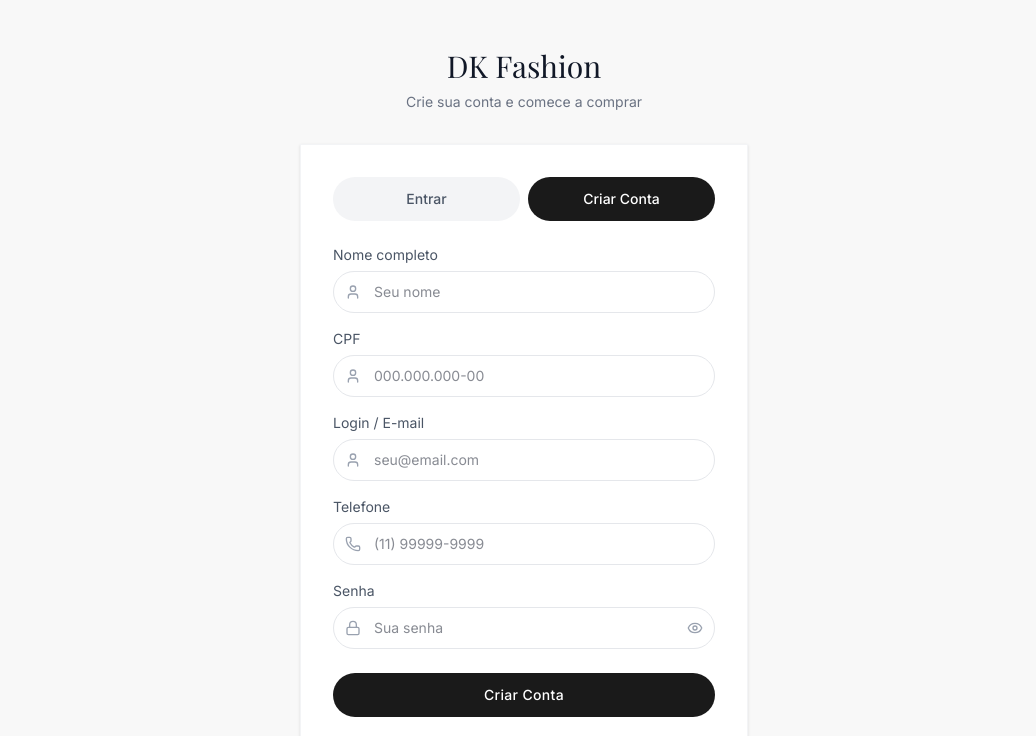
it: LoginPage › rejeita CPF com dígito verificador errado e telefone inválido
The width and height of the screenshot is (1036, 736).
Type "Ana" into the field with placeholder "Seu nome".
click(524, 292); type("Ana")  # box [333,271,715,313]
Type "12345678900" into the field with placeholder "000.000.000-00".
click(524, 376); type("12345678900")  # box [333,355,715,397]
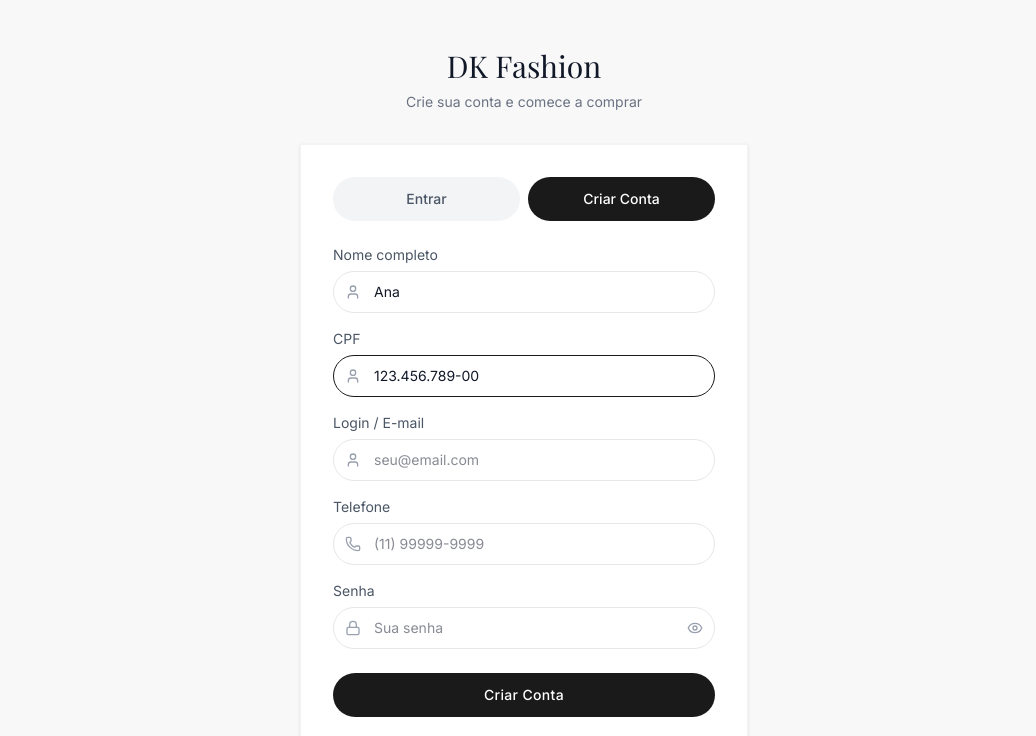
Type "ana@dk.com" into the field with placeholder "seu@email.com".
click(524, 460); type("ana@dk.com")  # box [333,439,715,481]
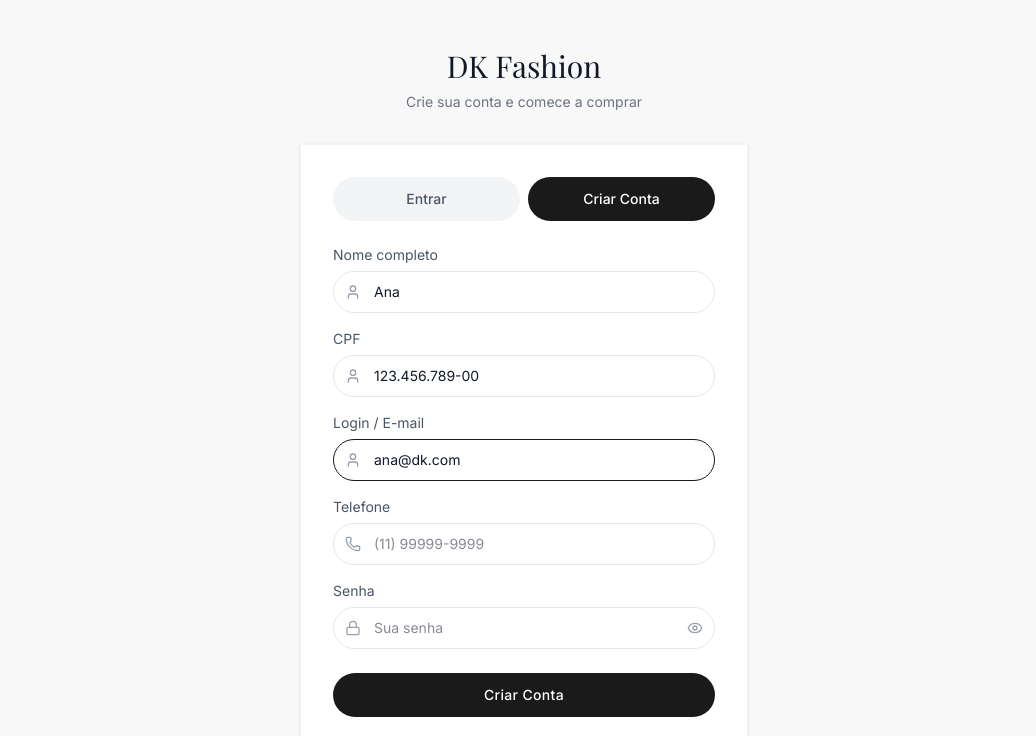
Type "senha1234" into the password field with placeholder "Sua senha".
click(524, 628); type("senha1234")  # box [333,607,715,649]
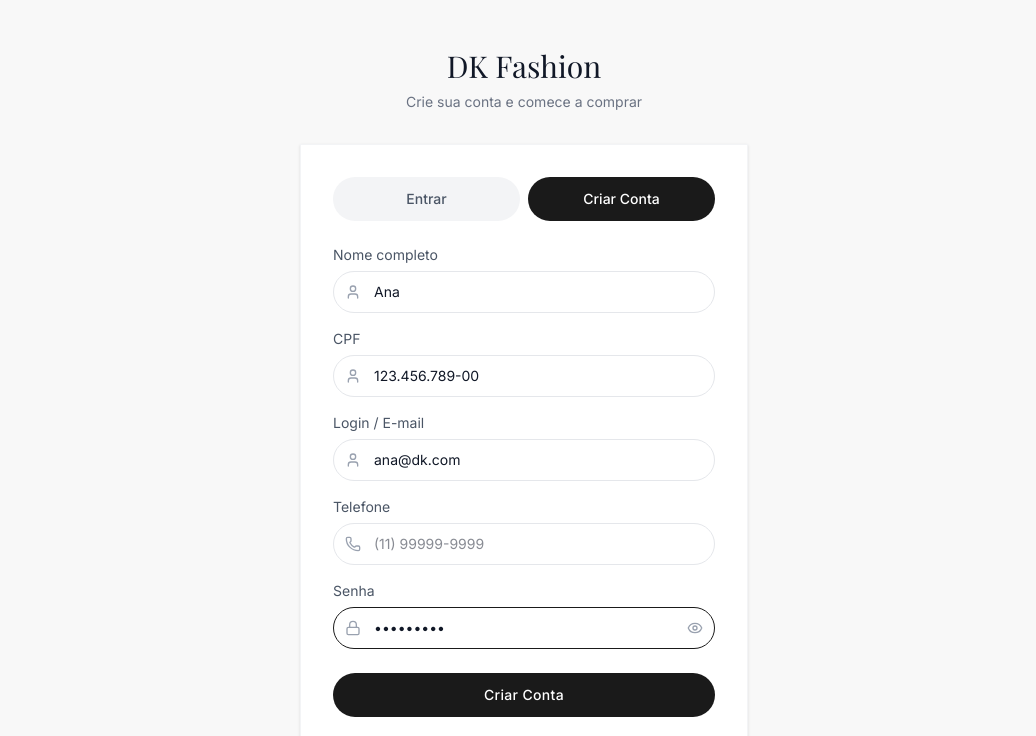
Click the button "Criar Conta" below "Senha".
click(524, 695)  # box [333,673,715,717]
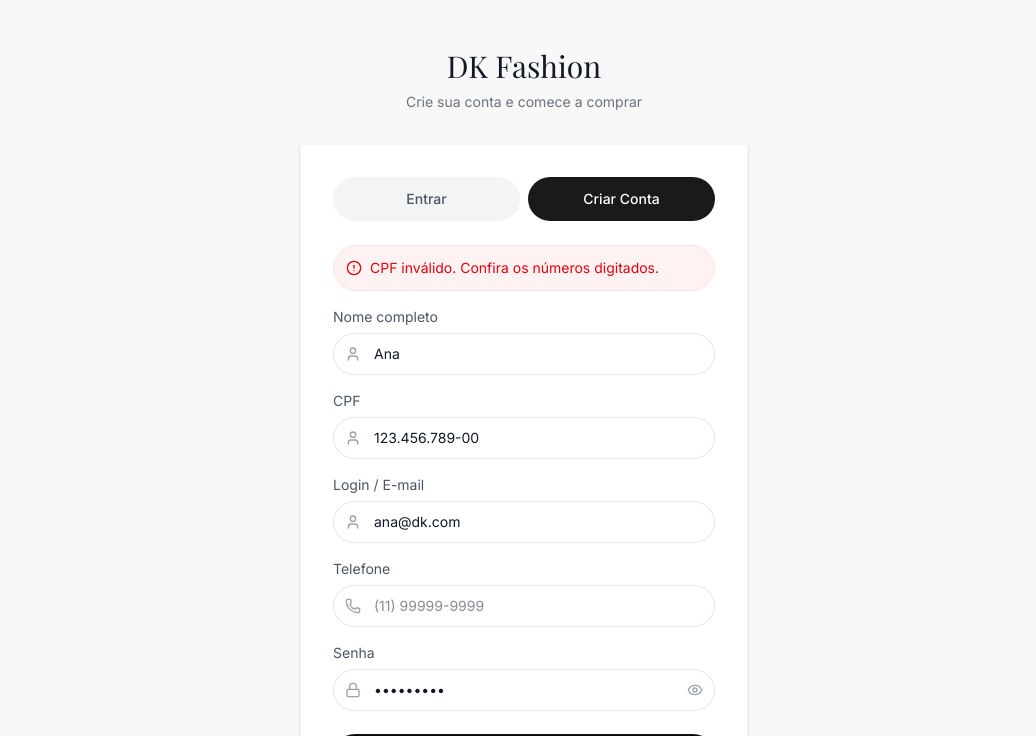
expect the text "CPF inválido. Confira os números digitados." is shown: met, box [333,245,715,291]
Replace the text in the 2nd field with "52998224725" at [524, 438], box [333,417,715,459]
Type "6100000000" into the field with placeholder "(11) 99999-9999".
click(524, 606); type("6100000000")  # box [333,585,715,627]
(page scrolled)
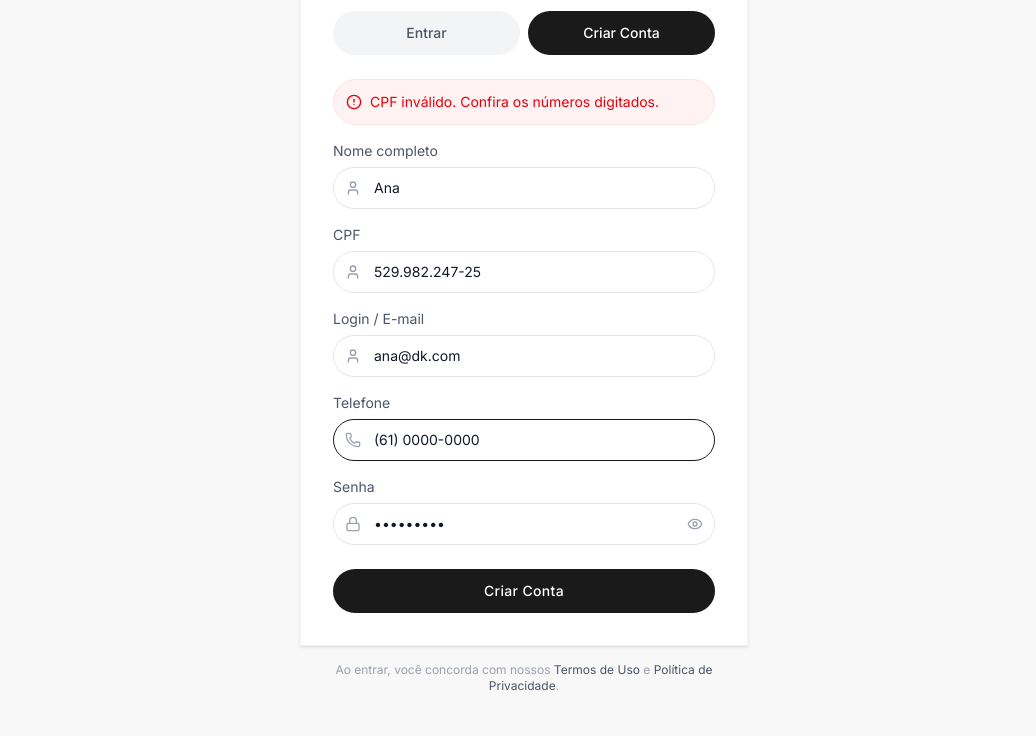
expect the field with placeholder "(11) 99999-9999" below "Telefone" holds "(61) 0000-0000": met, box [333,419,715,461]
Click the button "Criar Conta" below "Senha".
click(524, 591)  # box [333,569,715,613]
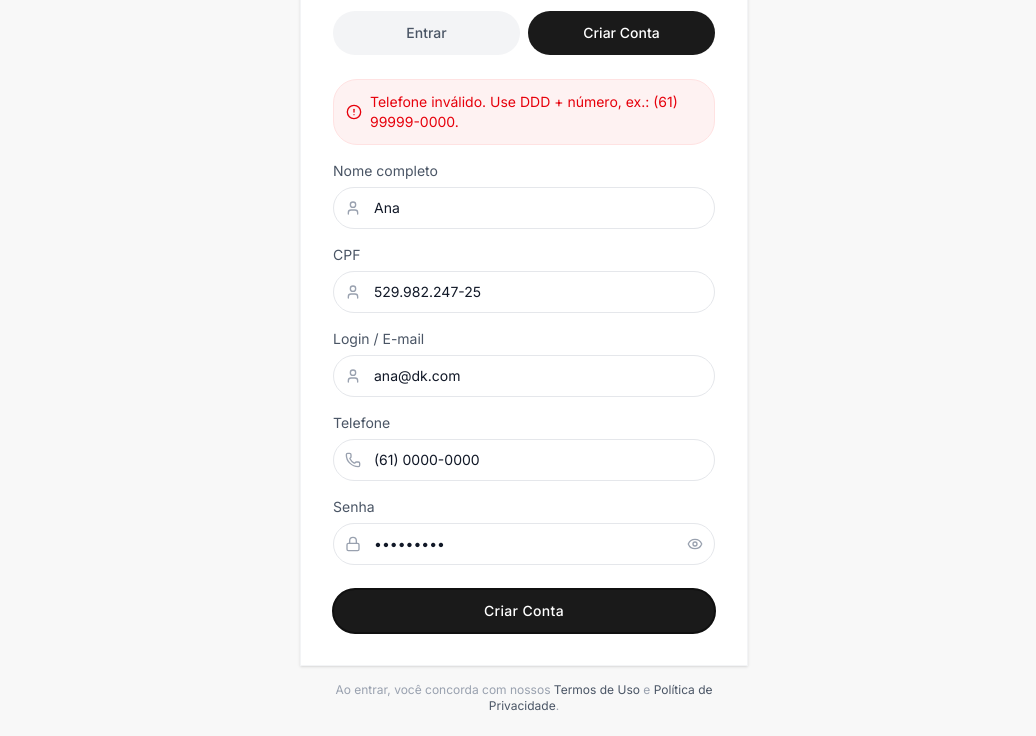
expect the text "Telefone inválido. Use DDD + número, ex.: (61) 99999-0000." is shown: met, box [333,79,715,145]
